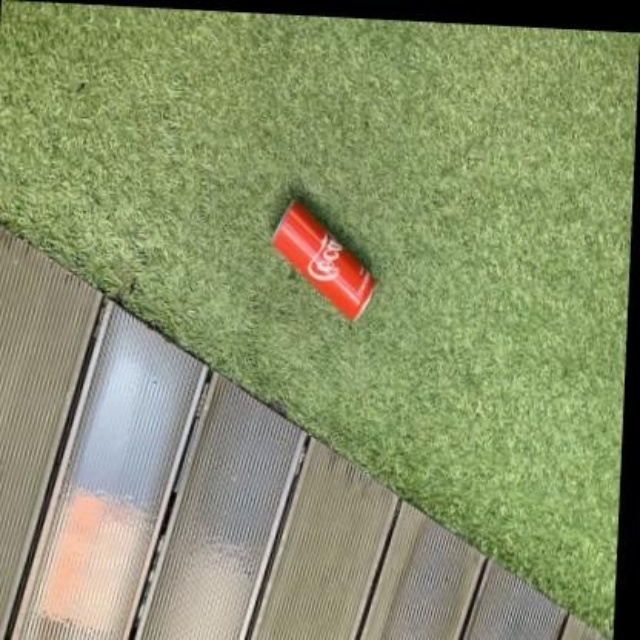trash: (272, 202, 374, 318)
